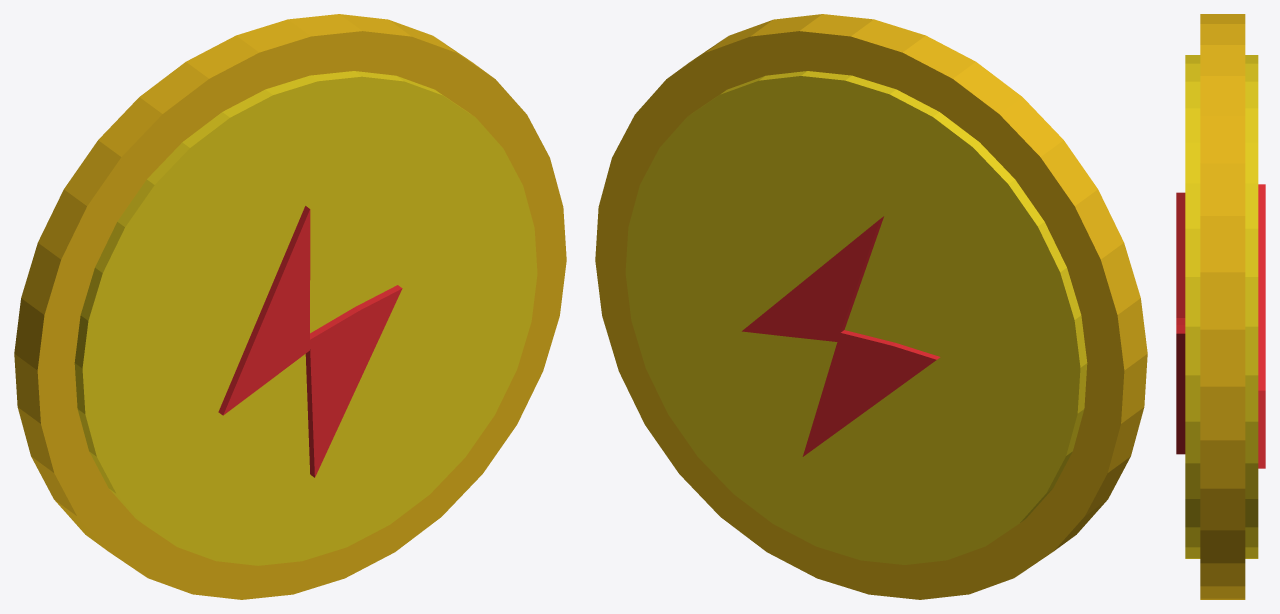
File: Speed.fbx
3 views of the same model, side by side, from view 1: azimuth 30°, elevation 25°; view 2: azimuth 150°, elevation 25°; view 3: azimuth 270°, elevation 25° (orthographic). The views are drawn at different scales.
Parts seen in each view (by area): view 1: Cube.003; view 2: Cube.003; view 3: Cube.003.
Boxes of the visible parts, left/top/right/bottom form: Cube.003: left=14, top=14, right=566, bottom=599; Cube.003: left=595, top=14, right=1147, bottom=599; Cube.003: left=1176, top=14, right=1265, bottom=599.
Bounding box in the file's own units: 200 × 200 × 30.51.
